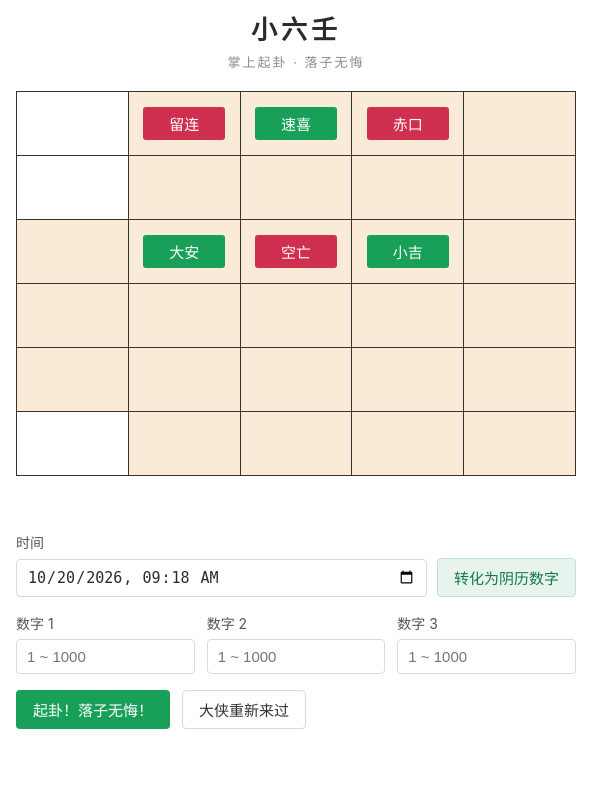
Scenario: XiaoLiuRen › 推算中途点「重新来过」，不会留下残影或结果
Type "3" into the number field labelled "数字 1" at (105, 656), box x1=16 y1=639 x2=195 y2=674
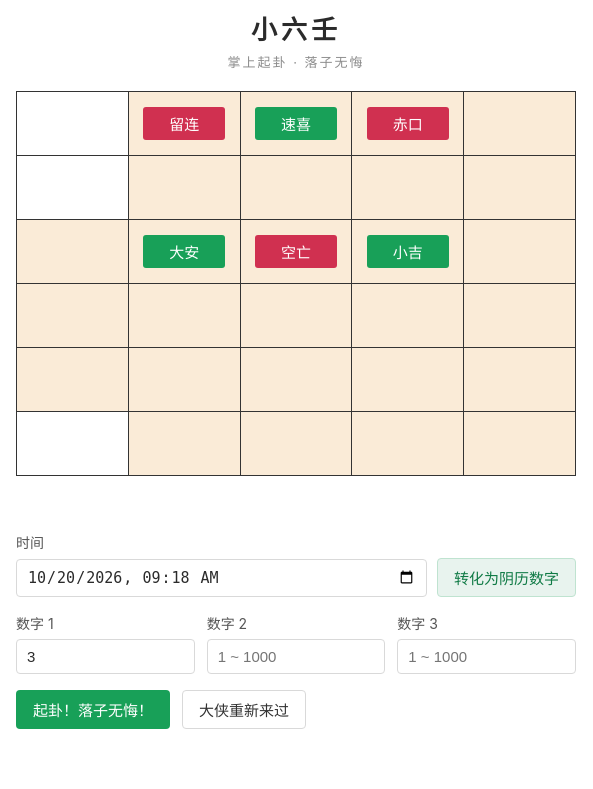
Type "5" into the number field labelled "数字 2" at (296, 656), box x1=207 y1=639 x2=385 y2=674
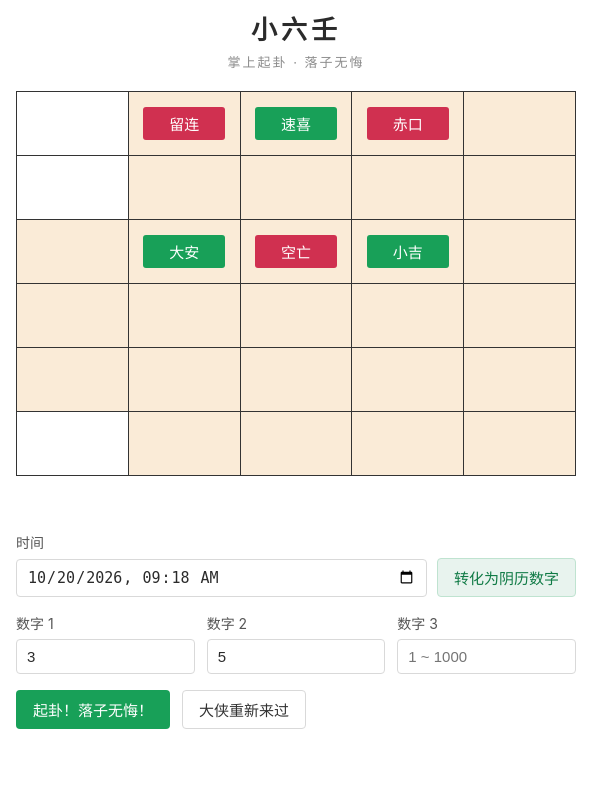
Type "8" into the number field labelled "数字 3" at (487, 656), box x1=397 y1=639 x2=576 y2=674
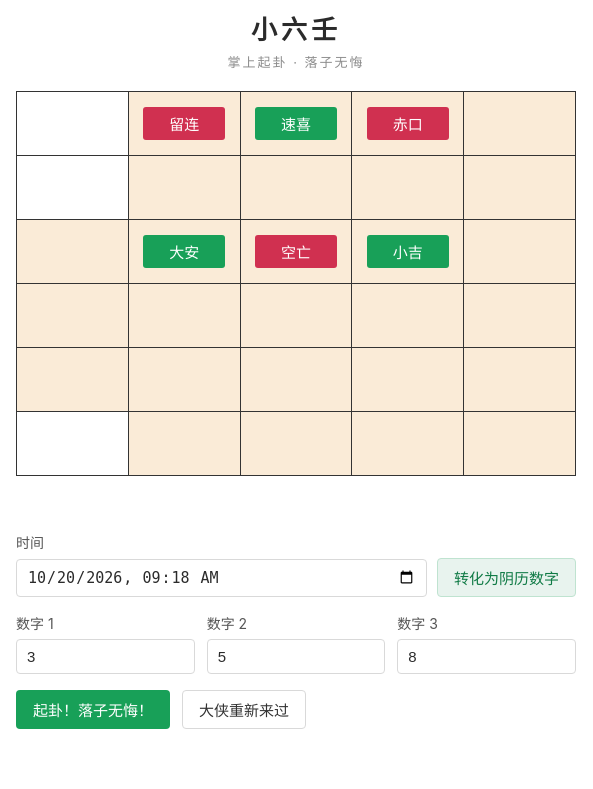
Submit the form, box x1=16 y1=532 x2=576 y2=729
Wait 500 ms
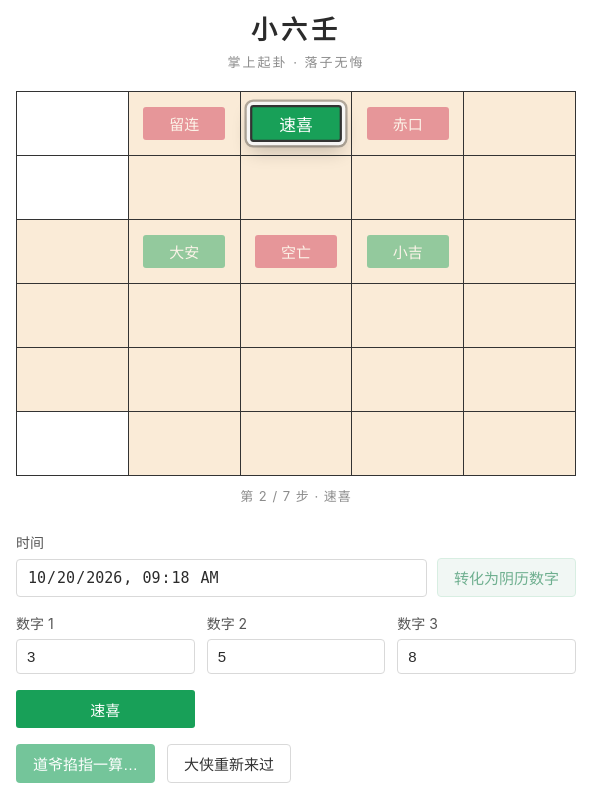
Now the element showing "留连 速喜 赤口 大安 空亡 小吉" has class "is-running", box x1=16 y1=91 x2=576 y2=476
Click the button with class "btn--ghost" at (229, 764), box x1=167 y1=744 x2=291 y2=783
Wait 5000 ms
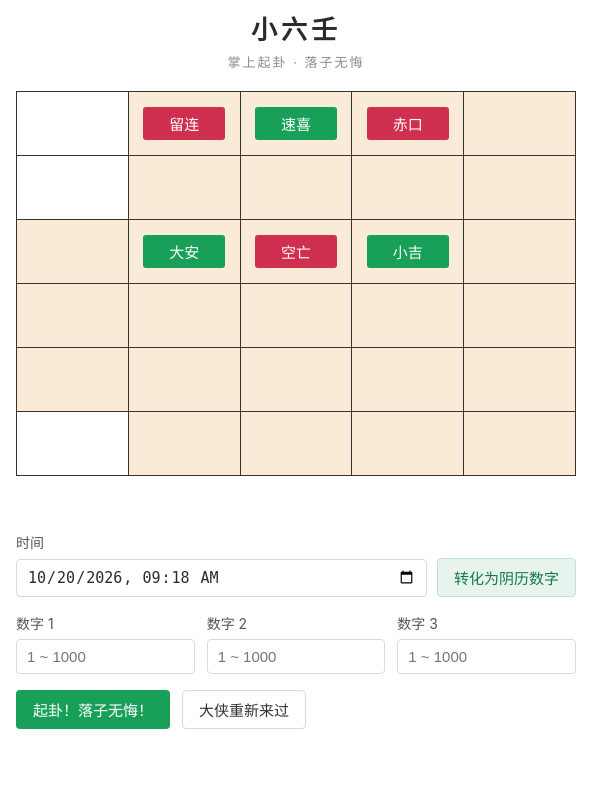
Now no list items with class "result" are shown
